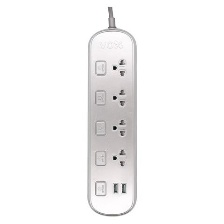three_eye_plug: (85, 25, 139, 218)
